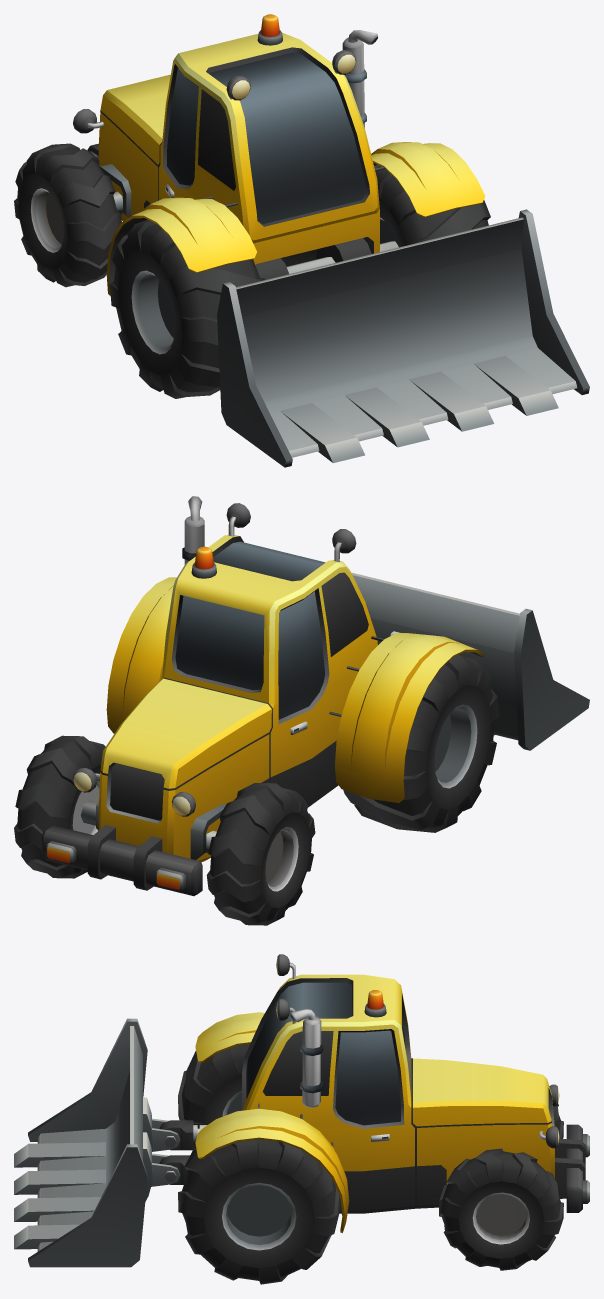
File: ti_excavator_1a.glb
The picture shows the model from 3 angles, top to bottom: view 1: azimuth 30°, elevation 25°; view 2: azimuth 150°, elevation 25°; view 3: azimuth 270°, elevation 25°; orthographic projection. The views are drawn at different scales.
Parts seen in each view (by area): view 1: Excavator_Blade_1A, Excavator_1A_Body, Excavator_1A_Wheel_R.L, Excavator_1A_Wheel_F.L, Excavator_1A_Wheel_R.R, Excavator_Blade_Pivot_1A; view 2: Excavator_1A_Body, Excavator_Blade_1A, Excavator_1A_Wheel_R.L, Excavator_1A_Wheel_F.L, Excavator_1A_Wheel_F.R; view 3: Excavator_1A_Body, Excavator_Blade_1A, Excavator_1A_Wheel_R.R, Excavator_1A_Wheel_F.R, Excavator_1A_Wheel_R.L, Excavator_Blade_Pistons_1A.
Boxes of the visible parts, x1,y1,x2,y2 form: Excavator_Blade_1A: [217, 209, 589, 467]; Excavator_1A_Body: [73, 14, 485, 295]; Excavator_1A_Wheel_R.L: [109, 219, 264, 398]; Excavator_1A_Wheel_F.L: [14, 143, 121, 287]; Excavator_1A_Wheel_R.R: [374, 165, 490, 247]; Excavator_Blade_Pivot_1A: [255, 238, 371, 279]; Excavator_1A_Body: [41, 496, 484, 896]; Excavator_Blade_1A: [351, 572, 589, 750]; Excavator_1A_Wheel_R.L: [343, 655, 499, 832]; Excavator_1A_Wheel_F.L: [206, 783, 315, 925]; Excavator_1A_Wheel_F.R: [14, 735, 105, 878]; Excavator_1A_Body: [195, 954, 589, 1233]; Excavator_Blade_1A: [14, 1018, 180, 1267]; Excavator_1A_Wheel_R.R: [178, 1139, 340, 1284]; Excavator_1A_Wheel_F.R: [439, 1148, 563, 1270]; Excavator_1A_Wheel_R.L: [178, 1044, 249, 1149]; Excavator_Blade_Pistons_1A: [159, 1120, 199, 1184].
Bounding box in the file's own units: 3.97 × 3.57 × 7.41.
Materials: 1 (1 with a texture image).
